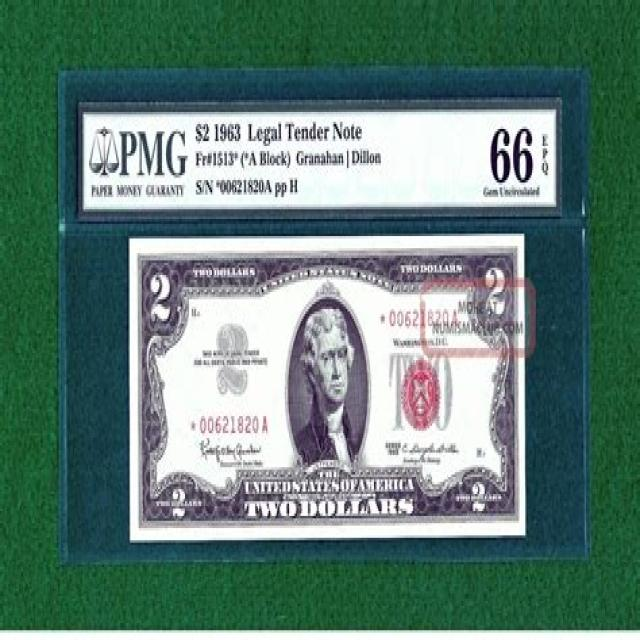Two: (130, 240, 527, 539)
